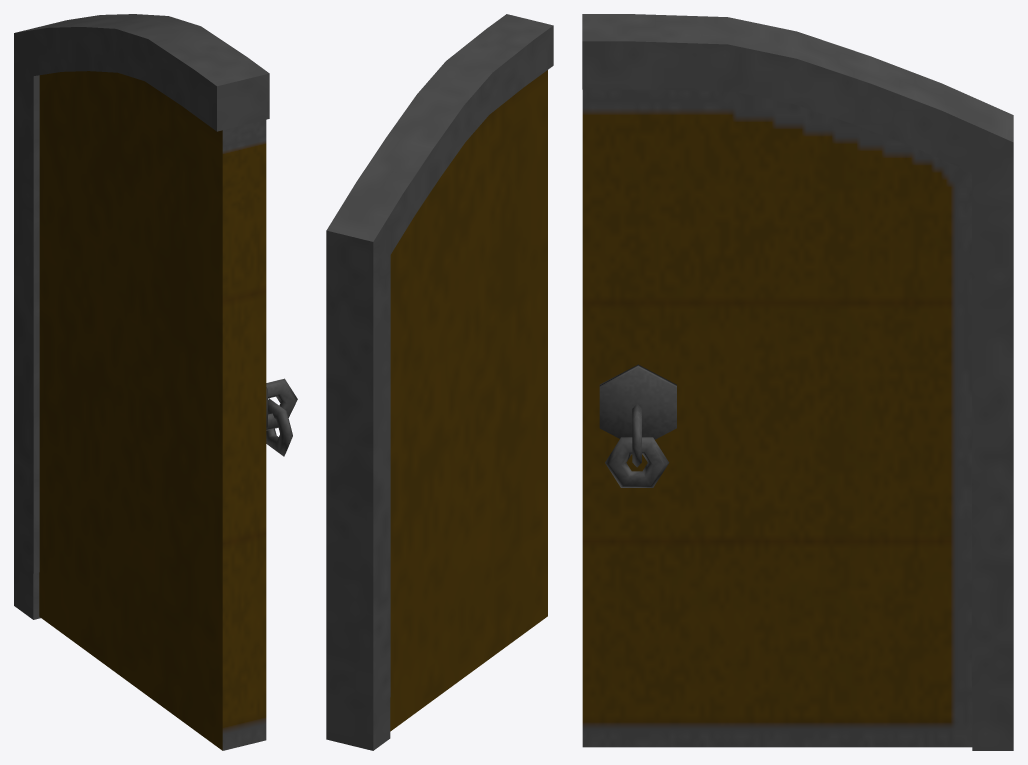
The model's file is Door.fbx.
3 views of the same model, side by side, from view 1: azimuth 30°, elevation 25°; view 2: azimuth 150°, elevation 25°; view 3: azimuth 270°, elevation 25° (orthographic). The views are drawn at different scales.
Visible parts, largest first — view 1: Puerta, Marco, Manilla; view 2: Puerta, Marco; view 3: Puerta, Marco, Base, Manilla.
Boxes of the visible parts, left/top/right/bottom form: Puerta: left=39, top=71, right=266, bottom=750; Marco: left=14, top=14, right=269, bottom=619; Manilla: left=266, top=378, right=297, bottom=456; Puerta: left=390, top=70, right=547, bottom=731; Marco: left=326, top=14, right=553, bottom=750; Puerta: left=582, top=89, right=972, bottom=747; Marco: left=582, top=14, right=1013, bottom=750; Base: left=599, top=364, right=676, bottom=439; Manilla: left=605, top=404, right=669, bottom=487.
Bounding box in the file's own units: 1.45 × 8.68 × 4.78.
